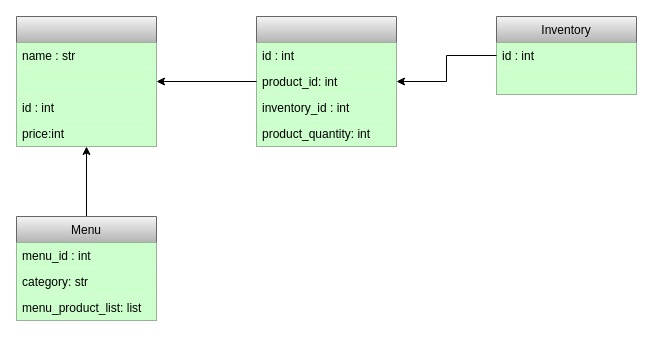
Some shapes in this 660 by 337 pixel diagram are drawn without their labels. The shapes that lost their labels are listed below. From the top down, each one's box as (x1, y1, x2, y2) in pixels, then its label:
(16, 68, 156, 94): description : str
(16, 16, 156, 146): Product
(256, 16, 396, 146): InventoryProduct
(496, 68, 636, 94): inventory_product_list : list
